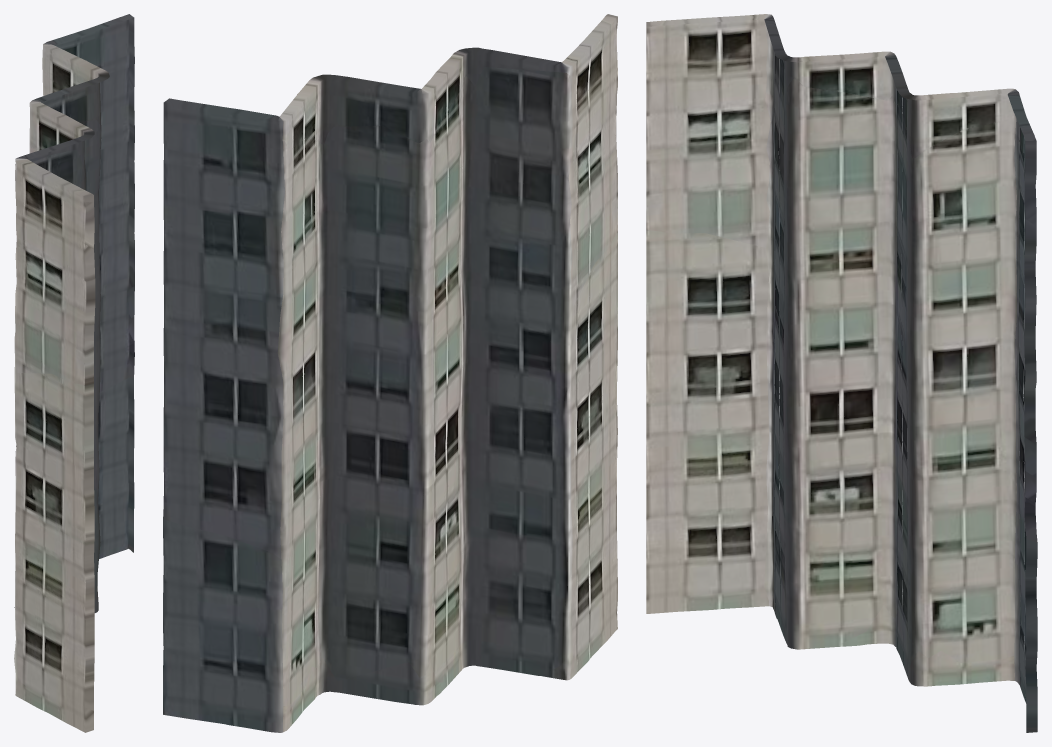
Rendered from z20-167762-405239-h1-yup-uvflip-v3-world.glb.
3 renders of one model, left to right at view 1: azimuth 30°, elevation 25°; view 2: azimuth 150°, elevation 25°; view 3: azimuth 270°, elevation 25°, orthographic. The views are drawn at different scales.
Bounding box in the file's own units: 12.84 × 27.92 × 16.72.
1 material, 1 textured.
